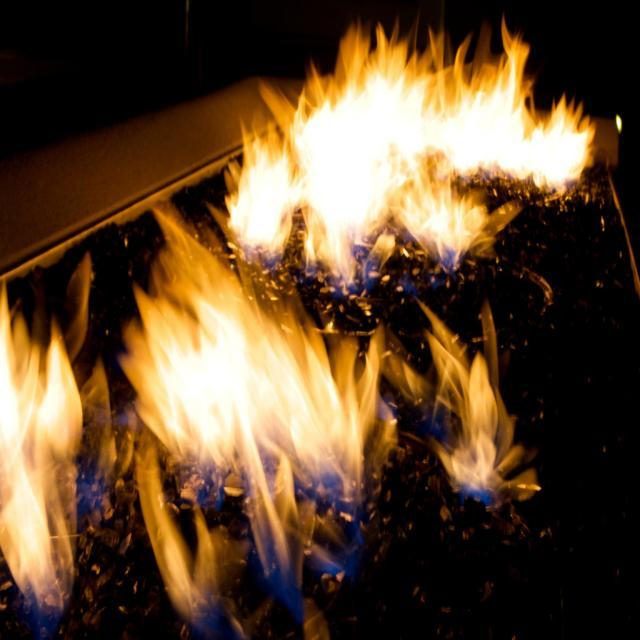Fire: (151, 345, 357, 476), (0, 375, 69, 564), (312, 95, 395, 239), (438, 110, 523, 173), (238, 158, 290, 252), (540, 123, 580, 186)
